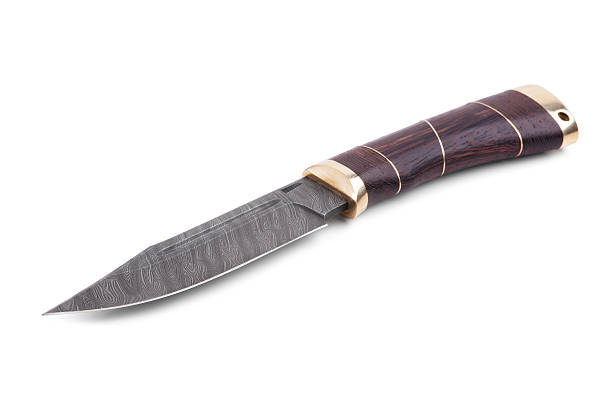knife: (39, 83, 581, 317)
